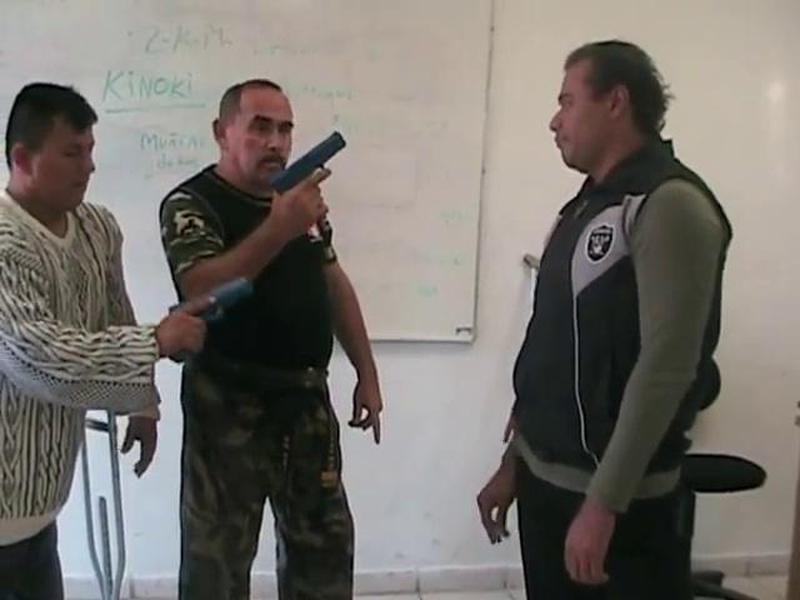Pistola: (257, 130, 359, 233), (148, 265, 245, 364)
